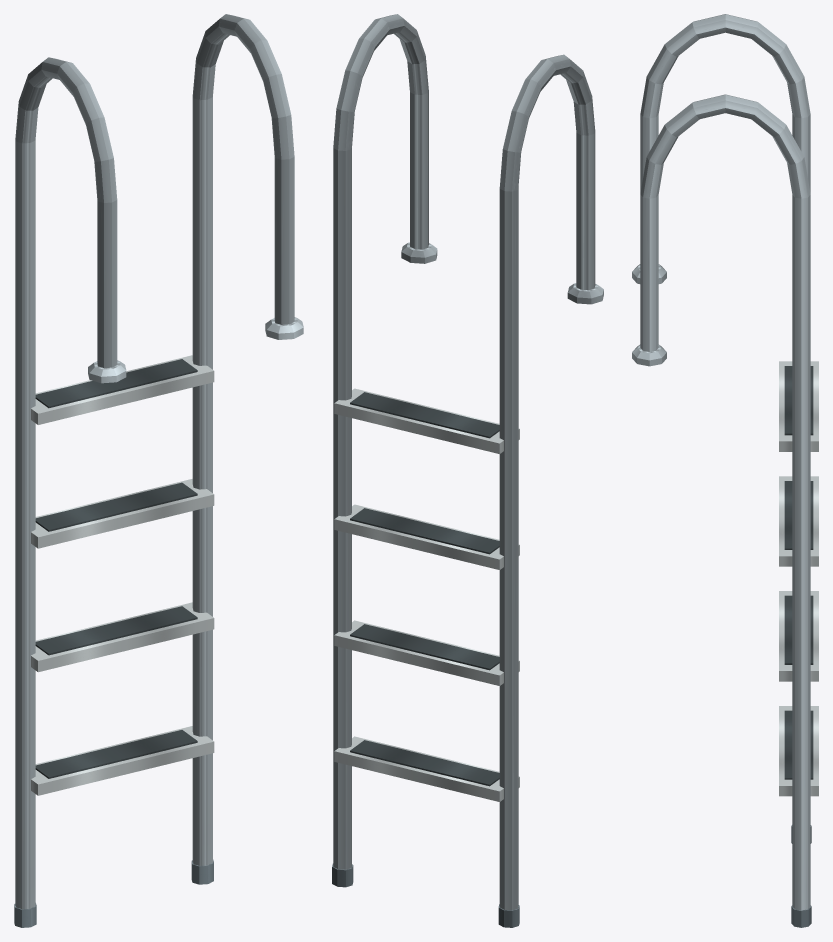
Rendered from pool_ladder.glb.
3 renders of one model, left to right at view 1: azimuth 30°, elevation 25°; view 2: azimuth 150°, elevation 25°; view 3: azimuth 270°, elevation 25°, orthographic. The views are drawn at different scales.
Visible parts, largest first — view 1: core_pool_ladder; view 2: core_pool_ladder; view 3: core_pool_ladder.
Part boxes in pixels (x1,y1,x2,y2): core_pool_ladder: (14, 14, 303, 927); core_pool_ladder: (332, 14, 603, 927); core_pool_ladder: (632, 14, 818, 927).
Size of the model in its own units: 0.55 by 2.2 by 0.45.
2 materials, 2 textured.
